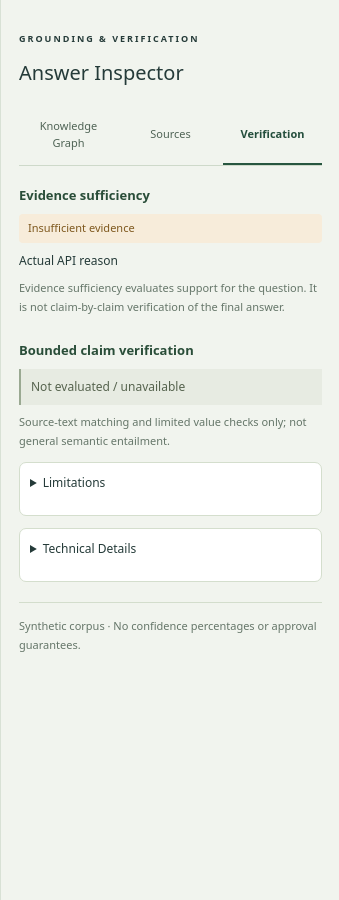
Test: labels refusal graph context and separates cited sources from provenance
Click the tab "Knowledge Graph" at (68, 136), box 19,106 -> 118,165
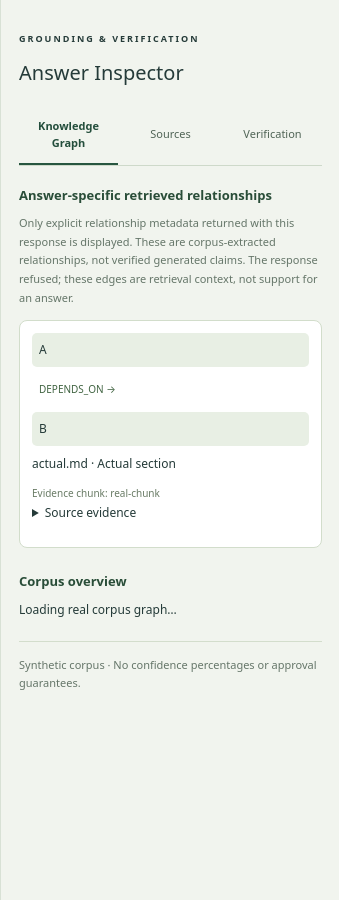
expect the text "response refused" is shown: met, box 19,252 -> 318,305
Click the tab "Sources" at (170, 136), box 121,106 -> 220,165
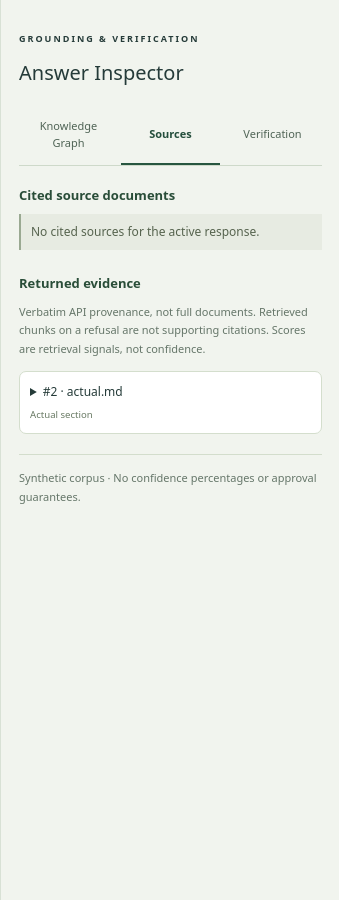
expect the text "No cited sources for the active response." is shown: met, box 19,214 -> 322,250
expect the text "not supporting citations" is shown: met, box 19,304 -> 308,356
